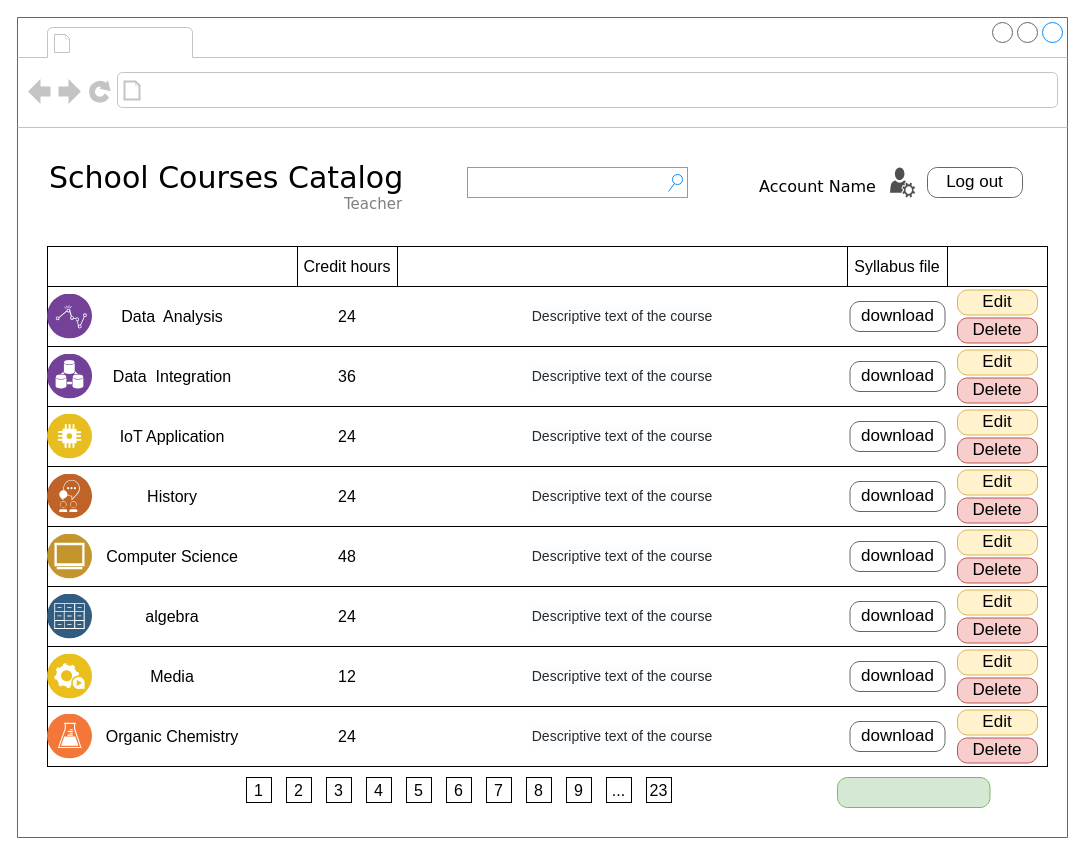
This 1085x855 diagram has some shape labels left out. Here are the shapes that lost their labels. From the top down, the box of each, then its label:
(76, 28, 188, 56): Page 1
(146, 76, 398, 104): https://www.default.com
(466, 166, 688, 198): Search the course
(46, 246, 298, 286): Courses
(396, 246, 848, 286): Brief description of the course
(946, 246, 1048, 286): Operation
(836, 776, 990, 808): Creat New Course
